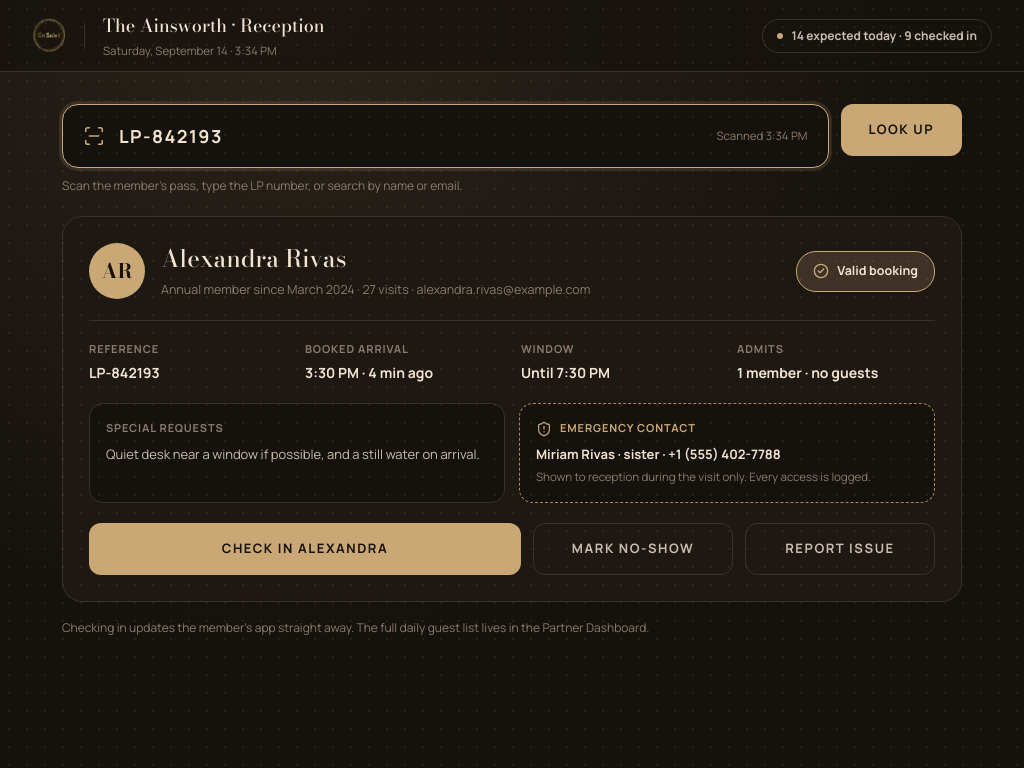
al confirmar el check-in › marca la reserva como ya recibida
The image size is (1024, 768).
Click the button "Check in Alexandra" at (305, 548), box [89,522,521,574]
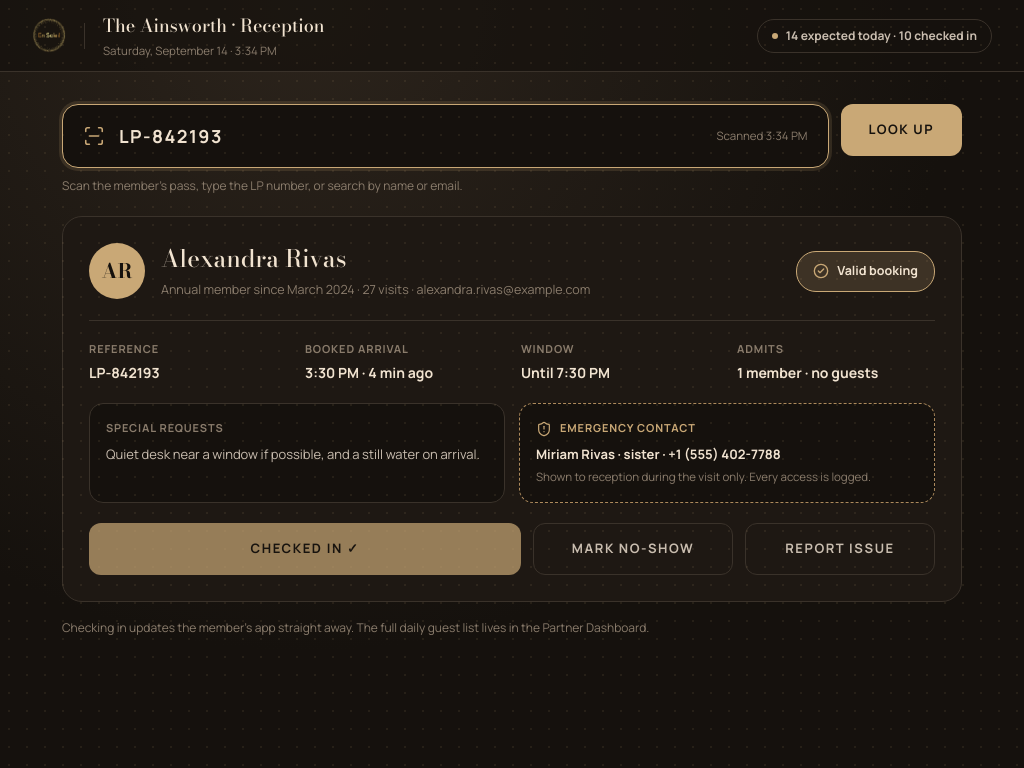
Expected: the button "Checked in ✓" is disabled, [89,522,521,574]
